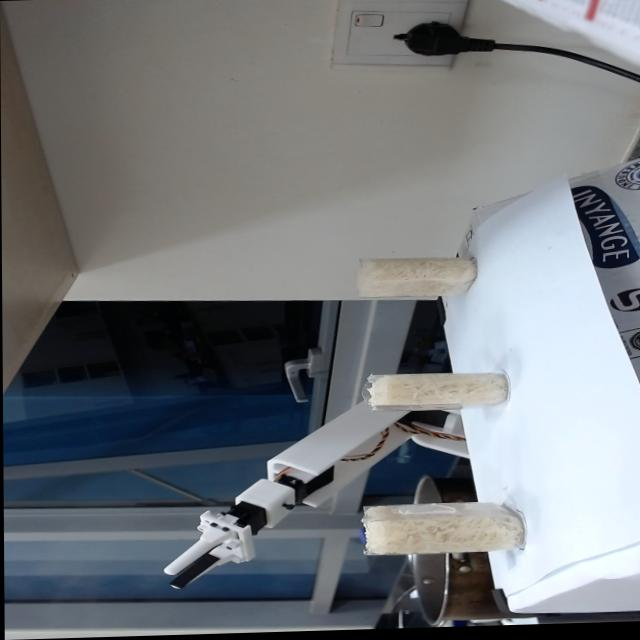raw_rice: (359, 505, 525, 559), (357, 254, 481, 298), (371, 375, 511, 410)
